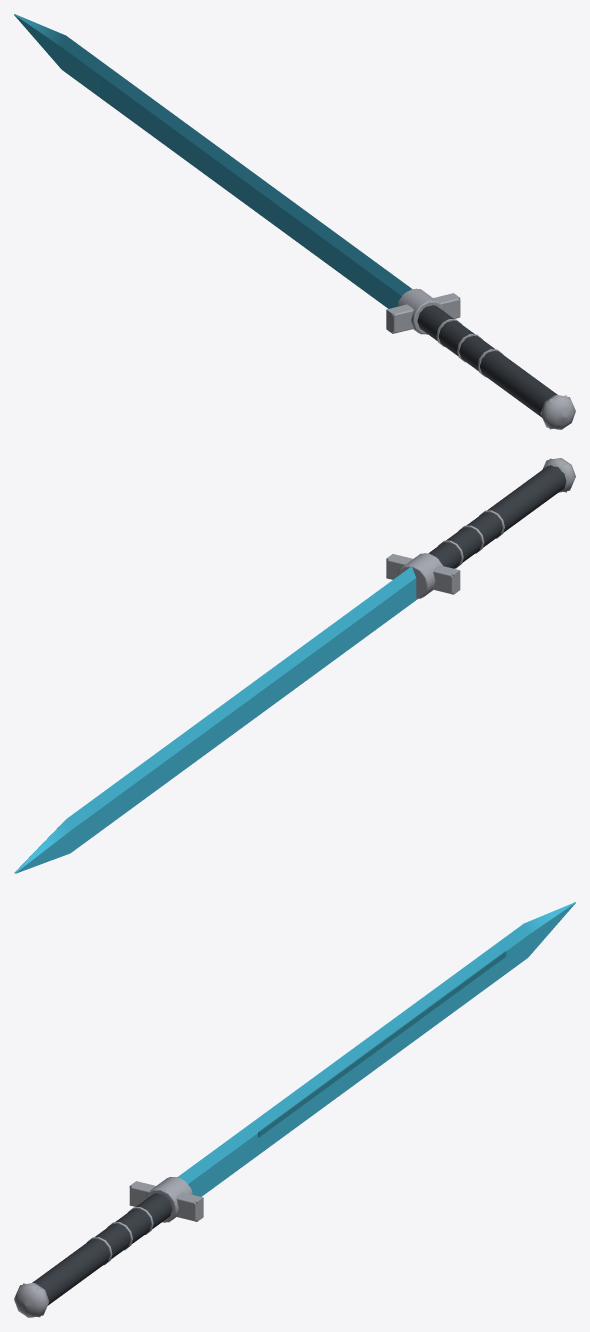
The model's file is eblade.glb.
3 renders of one model, top to bottom at view 1: azimuth 30°, elevation 25°; view 2: azimuth 150°, elevation 25°; view 3: azimuth 330°, elevation 25°, orthographic.
Visible parts, largest first — view 1: L0, L1; view 2: L0, L1; view 3: L0, L1.
Boxes of the visible parts, x1,y1,x2,y2 form: L0: [14, 14, 575, 429]; L1: [386, 288, 574, 429]; L0: [14, 458, 575, 873]; L1: [386, 458, 567, 597]; L0: [14, 902, 575, 1317]; L1: [15, 1178, 203, 1317].
Bounding box in the file's own units: 0.085 × 0.0418 × 1.2.
